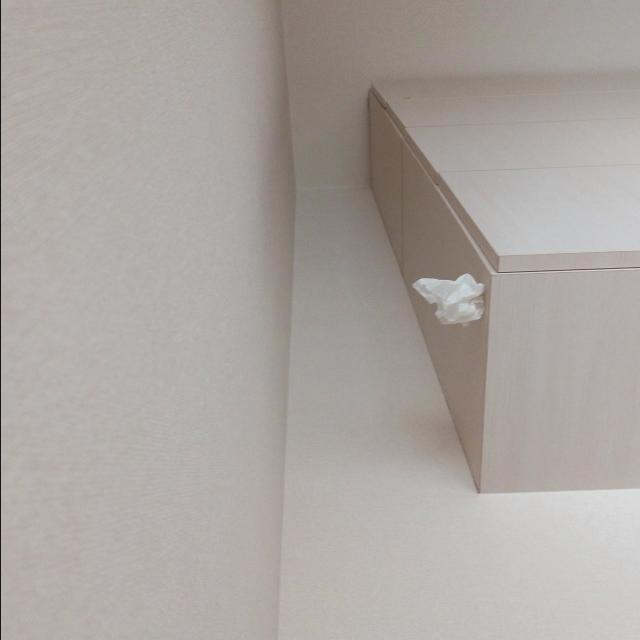Paper: (407, 260, 486, 326)
